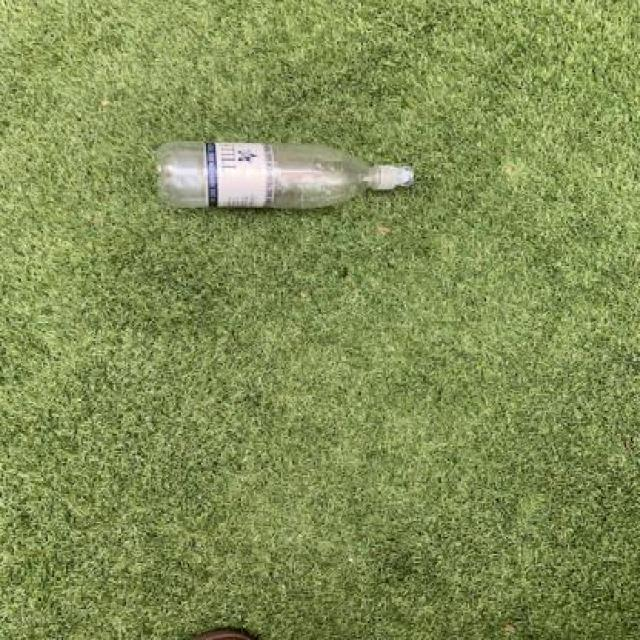trash: (151, 140, 418, 211)
